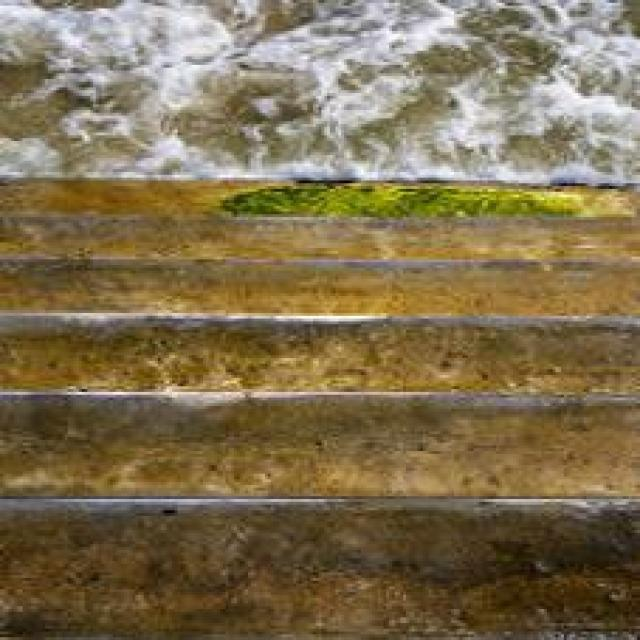stairs: (0, 175, 637, 638)
